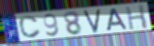8: (63, 10, 83, 37)
9: (42, 13, 60, 38)
A: (106, 8, 130, 32)
C: (18, 15, 42, 39)
H: (124, 4, 150, 31)
V: (82, 7, 102, 34)
